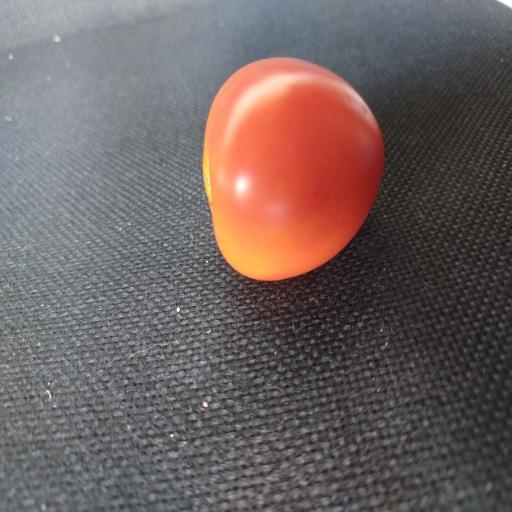ripe: (203, 58, 384, 280)
